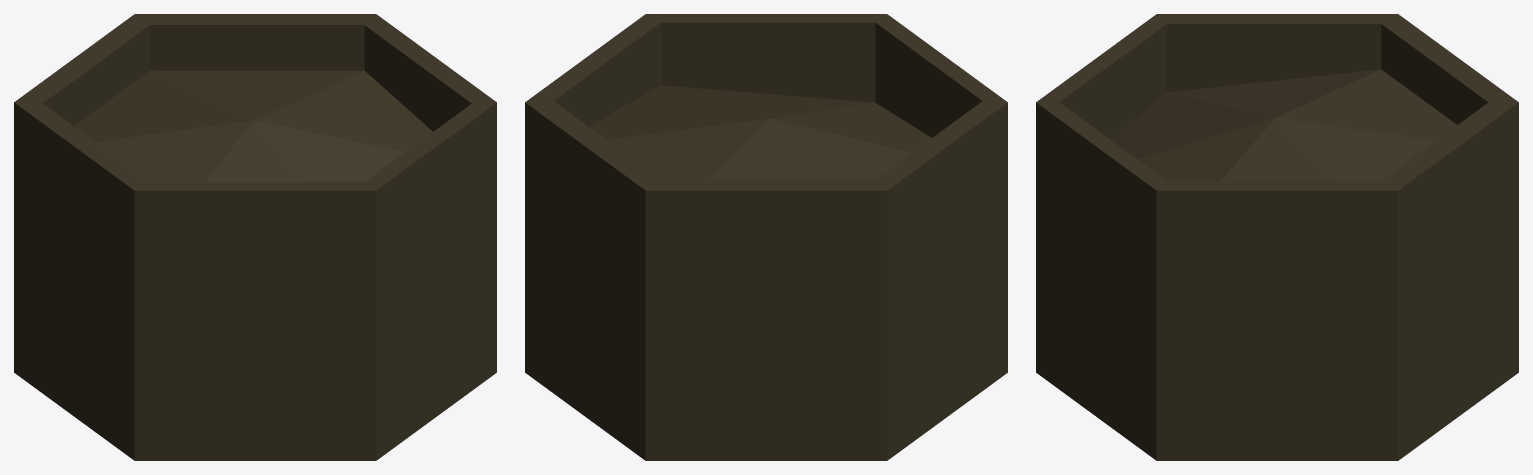
Rendered from ITMI_ALCHEMY_MOLERATLUBRIC_01.OBJ.
3 renders of one model, left to right at view 1: azimuth 30°, elevation 25°; view 2: azimuth 150°, elevation 25°; view 3: azimuth 270°, elevation 25°, orthographic.
Visible parts, largest first — view 1: ITMI_ALCHEMY_MOLERATLUBRIC_01; view 2: ITMI_ALCHEMY_MOLERATLUBRIC_01; view 3: ITMI_ALCHEMY_MOLERATLUBRIC_01.
Boxes of the visible parts, left/top/right/bottom form: ITMI_ALCHEMY_MOLERATLUBRIC_01: left=14, top=14, right=496, bottom=460; ITMI_ALCHEMY_MOLERATLUBRIC_01: left=525, top=14, right=1007, bottom=460; ITMI_ALCHEMY_MOLERATLUBRIC_01: left=1036, top=14, right=1518, bottom=460.
Bounding box in the file's own units: 0.1642 × 0.1171 × 0.1896.
